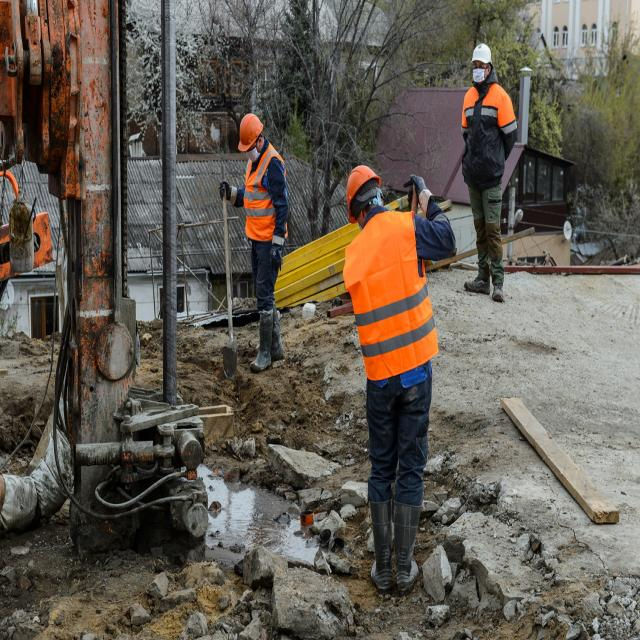Helmet: (347, 167, 384, 220), (240, 115, 265, 155), (472, 45, 493, 67)
Jacket: (356, 214, 423, 381), (464, 76, 506, 181), (246, 148, 284, 248)
